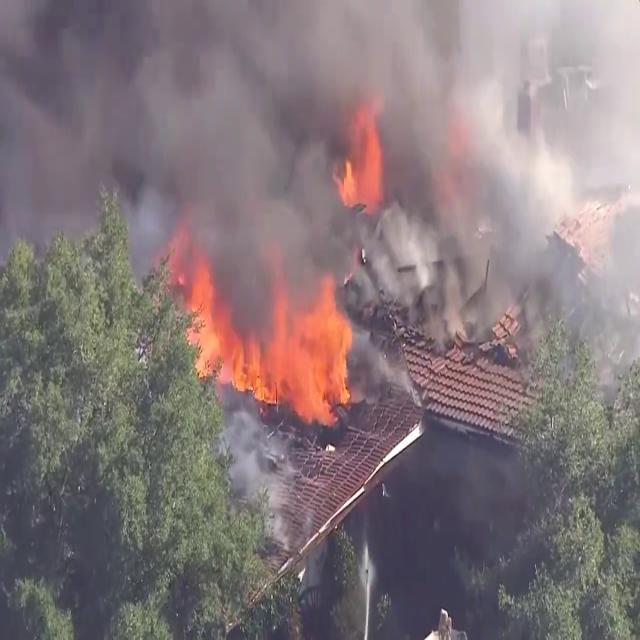Fire: (175, 264, 358, 415), (335, 95, 388, 216)
Smoke: (2, 0, 636, 323)
